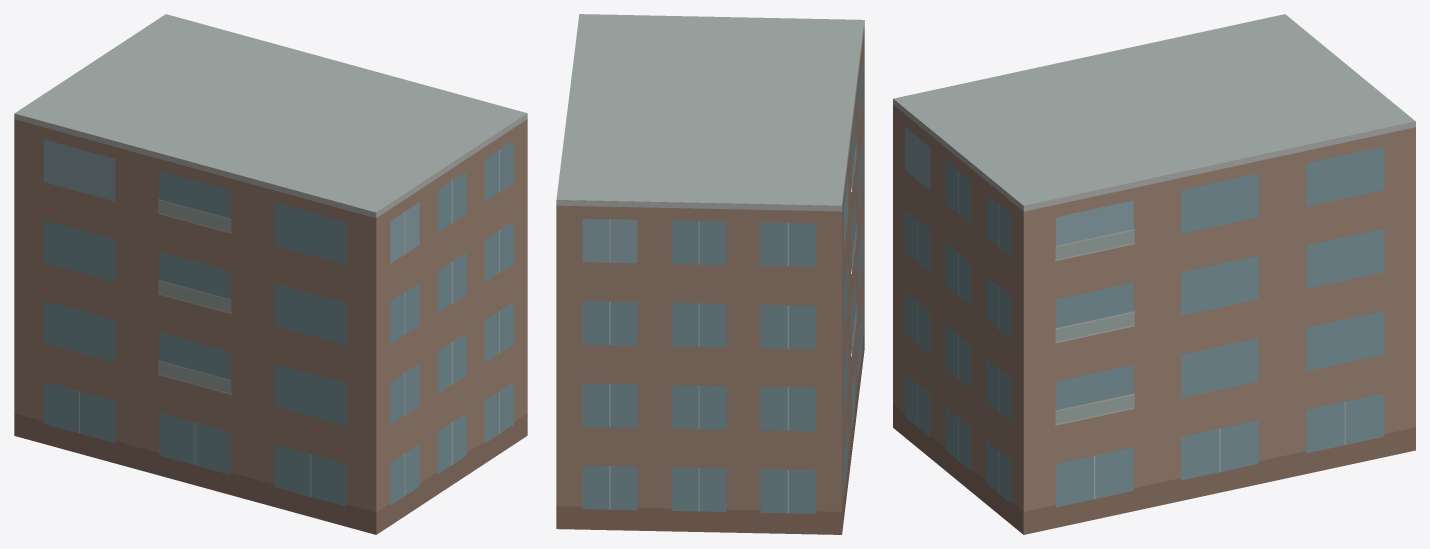
Rendered from survey-upis-32914870.glb.
3 views of the same model, side by side, from view 1: azimuth 30°, elevation 25°; view 2: azimuth 150°, elevation 25°; view 3: azimuth 270°, elevation 25° (orthographic). The views are drawn at different scales.
Parts seen in each view (by area): view 1: survey-upis-32914870.tmp; view 2: survey-upis-32914870.tmp; view 3: survey-upis-32914870.tmp.
Boxes of the visible parts, x1,y1,x2,y2 form: survey-upis-32914870.tmp: [14, 14, 527, 534]; survey-upis-32914870.tmp: [556, 14, 864, 534]; survey-upis-32914870.tmp: [893, 14, 1415, 534].
Size of the model in its own units: 17.27 by 13.8 by 19.88.
